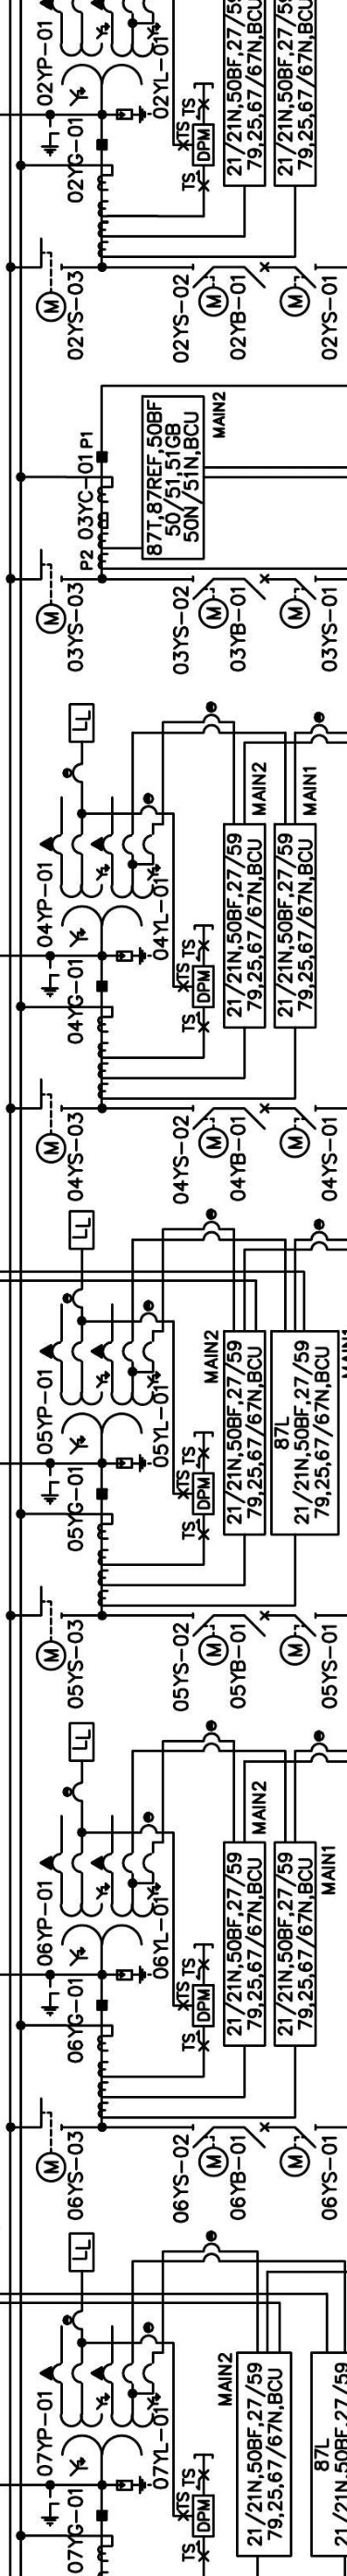115_1way_ds_w_motor: (35, 547, 67, 636), (36, 2096, 67, 2183), (36, 1585, 67, 1672), (36, 1078, 67, 1165), (36, 237, 67, 324), (191, 2123, 230, 2178), (191, 1612, 230, 1668), (191, 1104, 230, 1160), (191, 263, 230, 319), (278, 575, 317, 629), (191, 575, 230, 629), (280, 2123, 317, 2178), (280, 1612, 317, 1668), (280, 1104, 317, 1160), (280, 263, 317, 319)
115_breaker: (243, 2121, 270, 2149), (243, 1610, 270, 1638), (243, 1102, 270, 1130), (243, 261, 270, 289), (243, 573, 270, 601)
115_gs: (39, 2494, 61, 2528), (39, 1985, 61, 2017), (39, 1474, 61, 1507), (39, 966, 61, 999), (39, 125, 61, 158)
115_la: (115, 2474, 153, 2495), (115, 1965, 153, 1985), (115, 1454, 153, 1474), (115, 946, 153, 966), (115, 105, 153, 125)
115_vt_3p: (38, 2362, 161, 2477), (39, 1851, 161, 1967), (39, 1341, 161, 1456), (39, 833, 161, 948)
DPM: (192, 2494, 215, 2538), (192, 1472, 215, 1516), (192, 123, 215, 168), (192, 1985, 215, 2027), (192, 966, 215, 1009)
LL: (67, 2231, 95, 2272), (67, 1722, 95, 1763), (67, 1211, 95, 1252), (67, 703, 95, 744)
